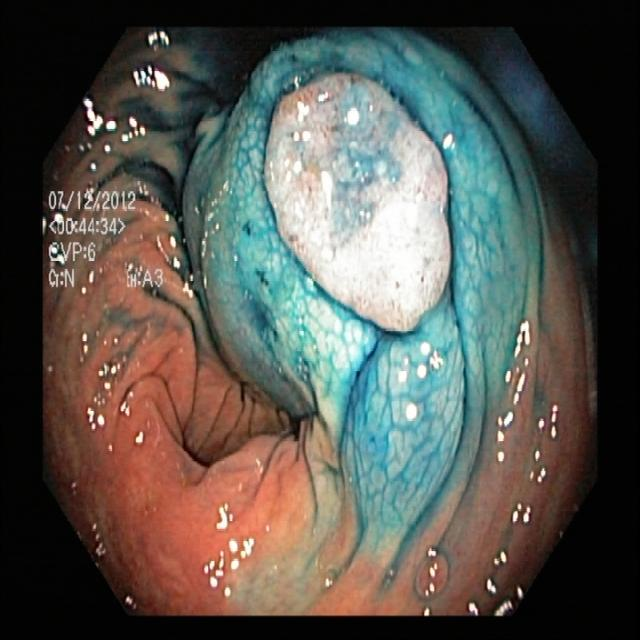dyed-lifted-polyps: (257, 45, 463, 339)
